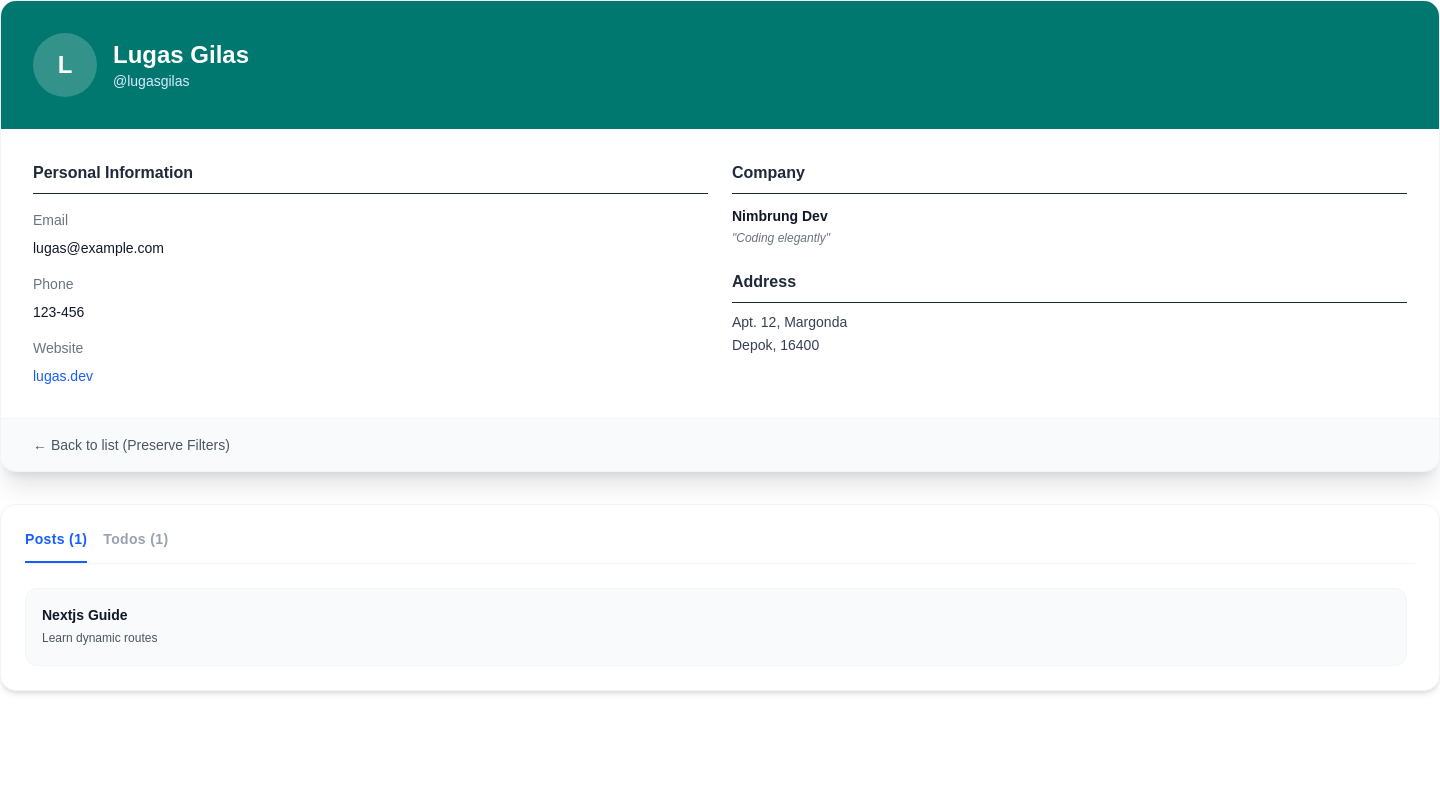
Test: User Details Workspace (Task 4 & 6) › 2. Harus merender section Posts dan dapat berpindah ke Tab Todos
Expected: the heading "Nextjs Guide" is shown, top-left (42, 607), bottom-right (128, 623)
Click the button "Todos (1)" at (136, 546), box top-left (103, 529), bottom-right (168, 563)
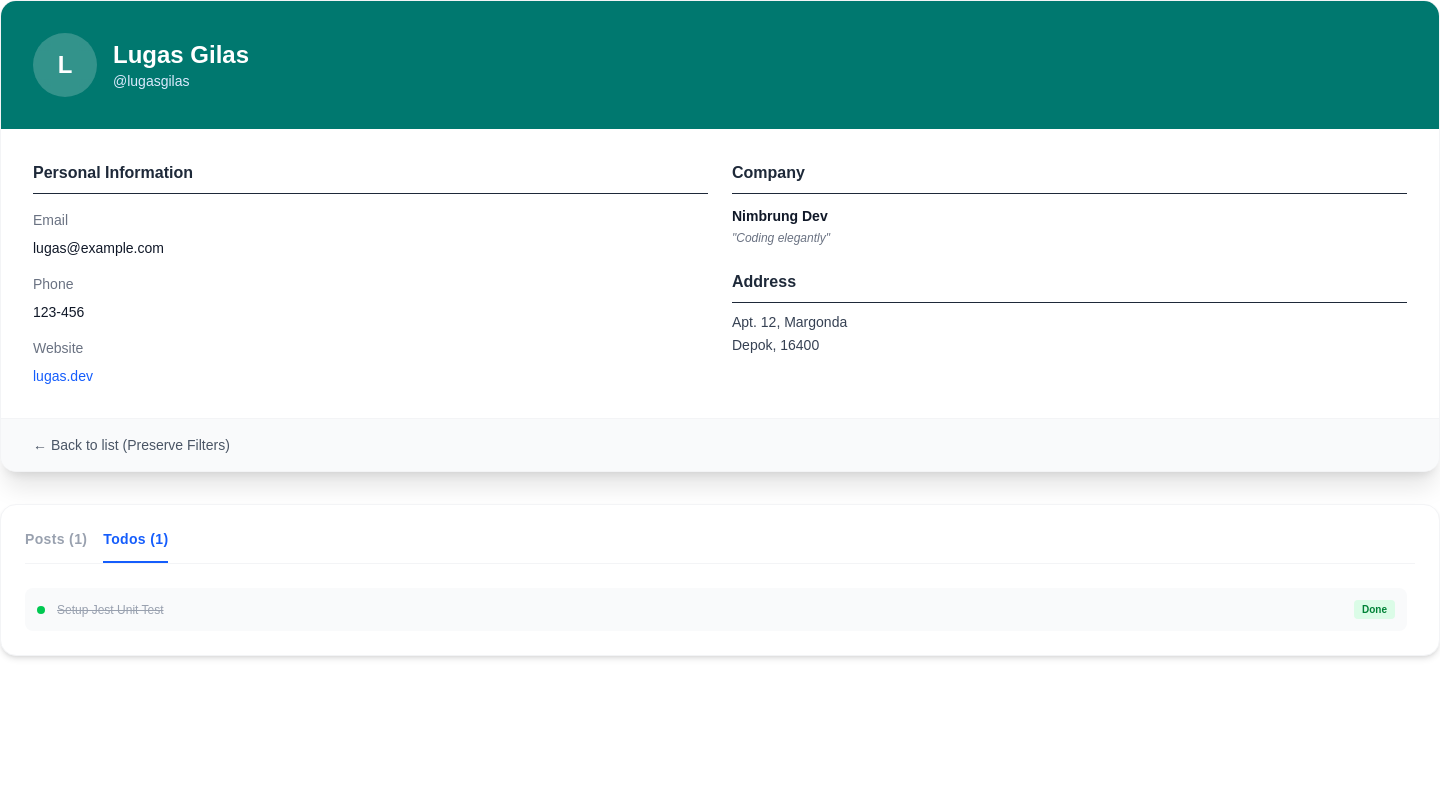
Now the heading "Nextjs Guide" is gone
Now the text "Setup Jest Unit Test" is shown, box top-left (57, 602), bottom-right (164, 616)
